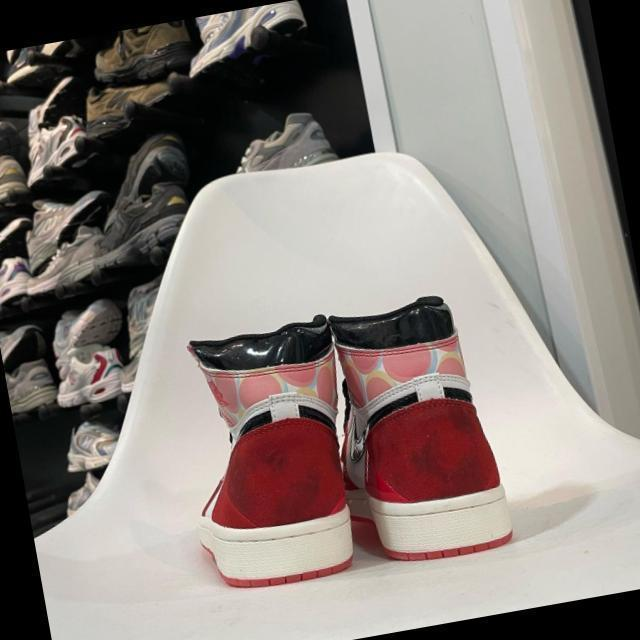nike fake jordan 1: (158, 314, 366, 597), (317, 289, 513, 573)
